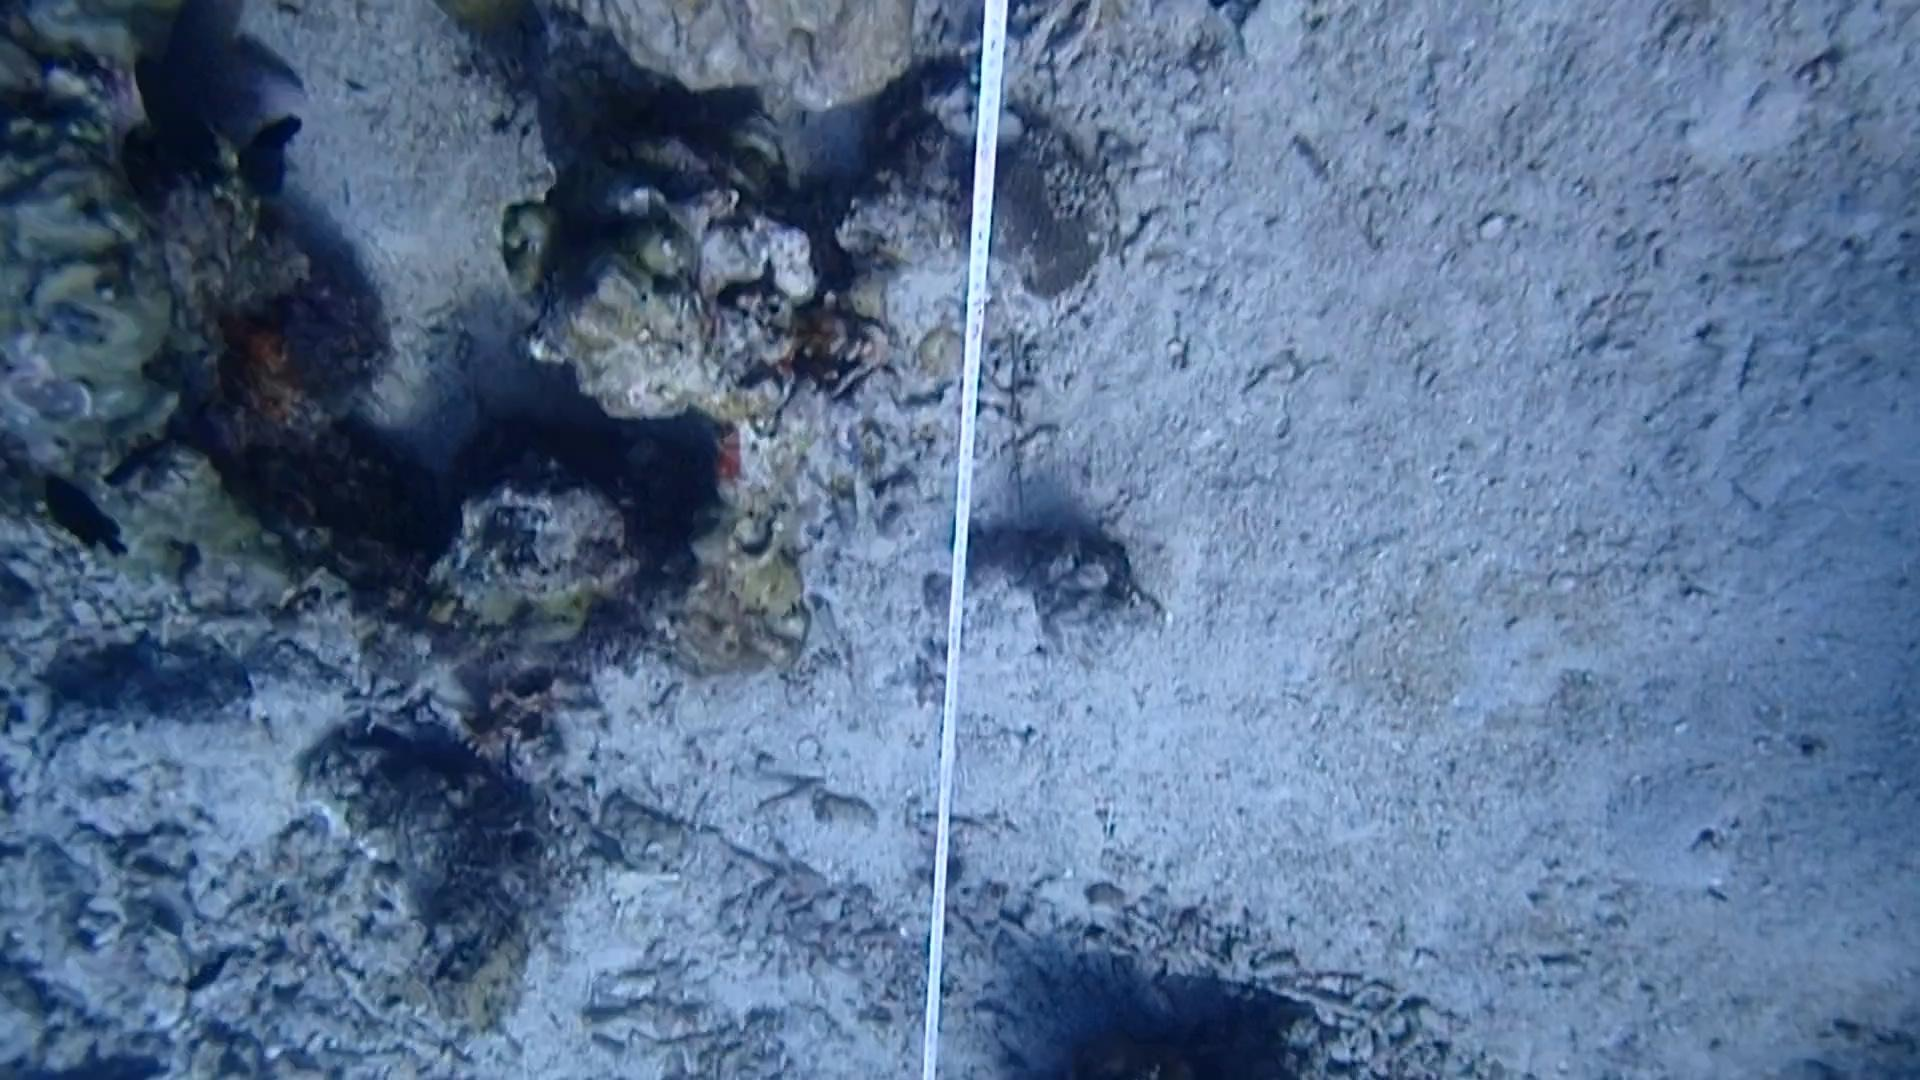Dark Fish: (115, 47, 244, 193), (28, 477, 136, 579), (236, 116, 322, 208), (181, 938, 231, 1007)
